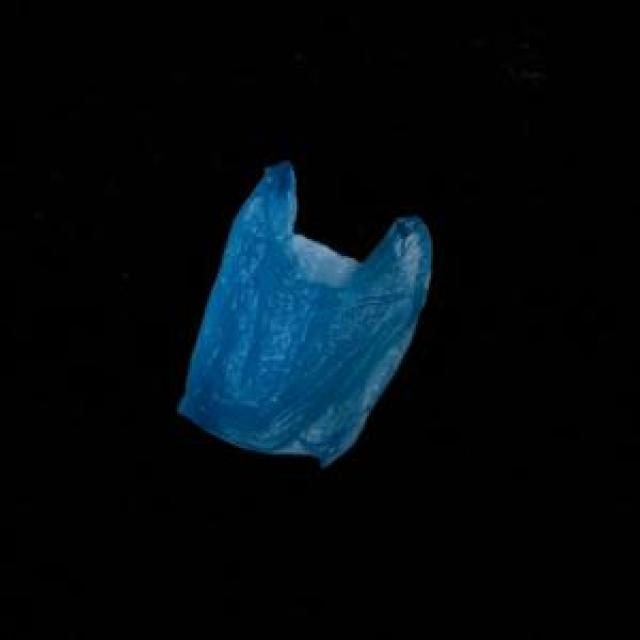plastic: (160, 131, 472, 505)
